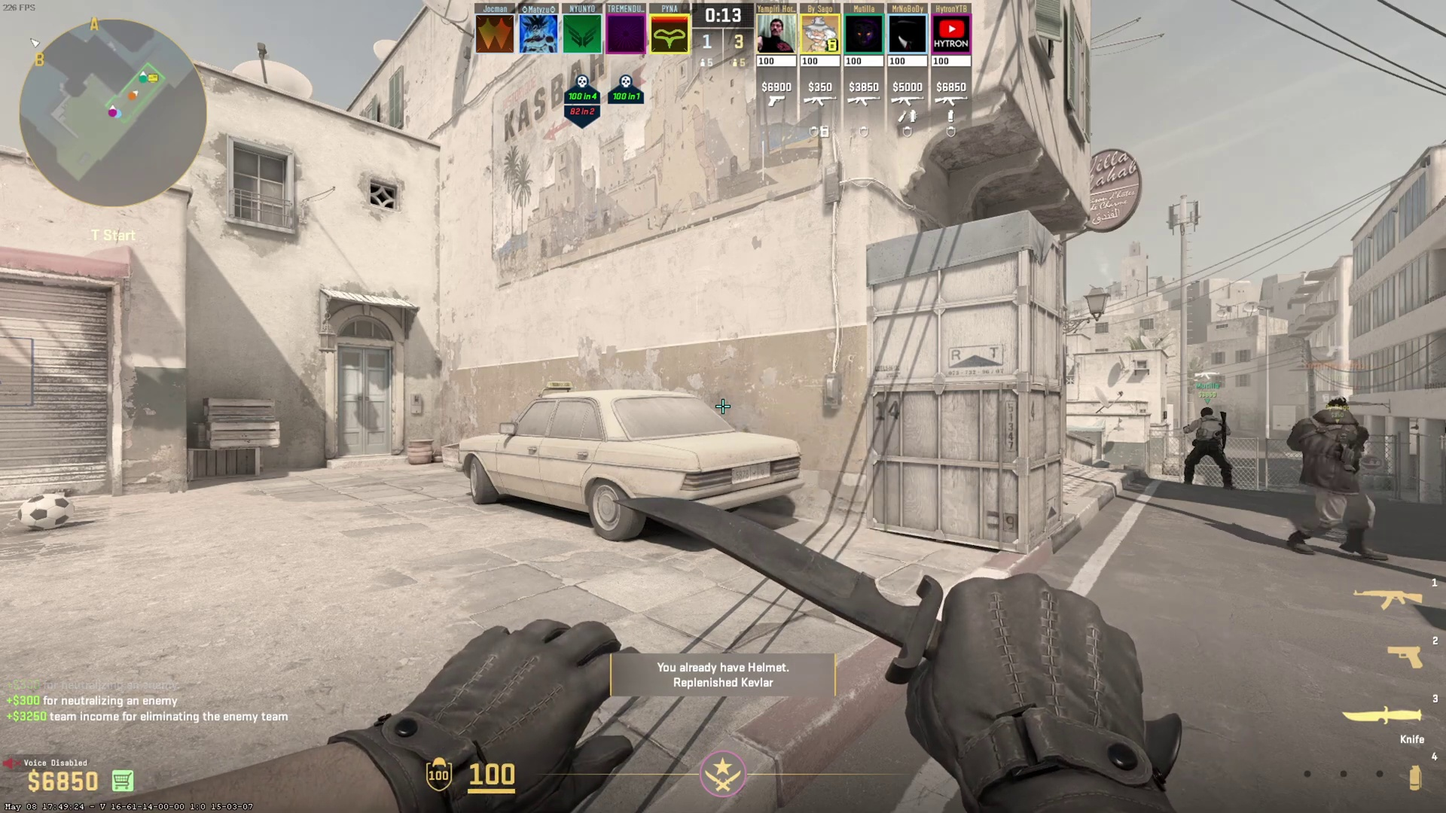Terrorist: (1290, 399, 1389, 561), (1185, 407, 1236, 490)
